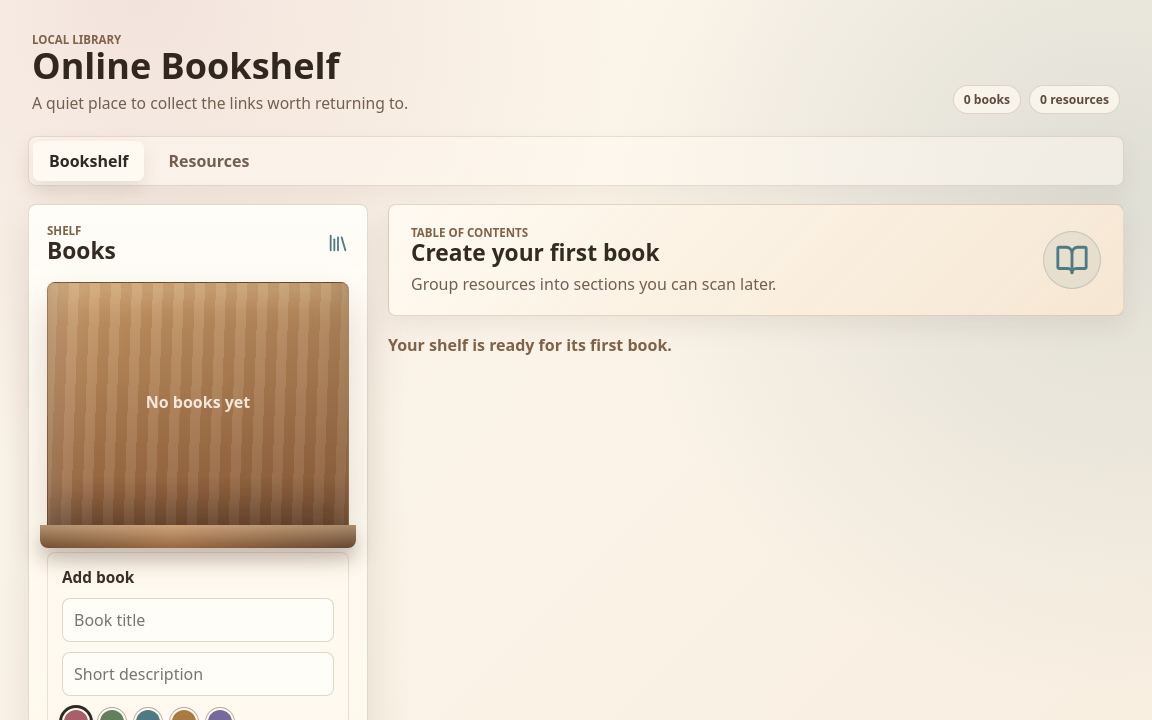
Test: App › renders resource memberships in the resources tab
Click the button "Resources" at (209, 161), box [152, 141, 266, 181]
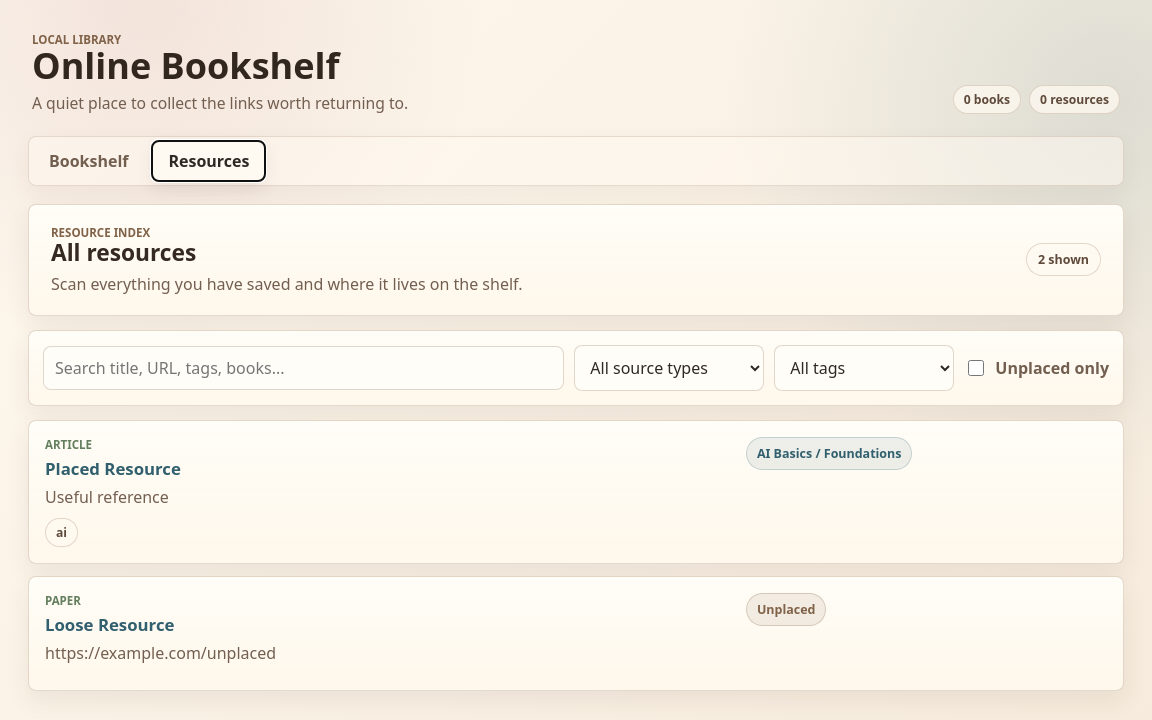
expect the link "Placed Resource" is shown: met, box [45, 457, 181, 480]
expect the text "AI Basics / Foundations" is shown: met, box [746, 437, 912, 470]
expect the link "Loose Resource" is shown: met, box [45, 613, 174, 636]
